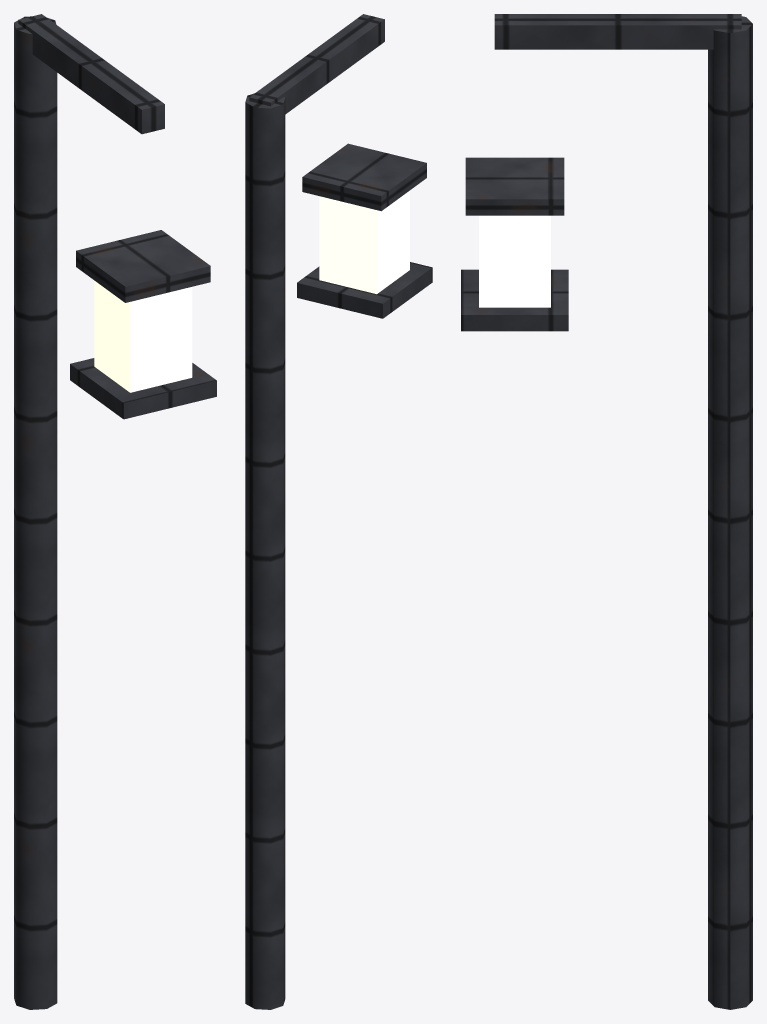
File: lantern_post.glb
3 renders of one model, left to right at view 1: azimuth 30°, elevation 25°; view 2: azimuth 150°, elevation 25°; view 3: azimuth 270°, elevation 25°, orthographic. The views are drawn at different scales.
Parts seen in each view (by area): view 1: lantern_post; view 2: lantern_post; view 3: lantern_post.
Boxes of the visible parts, x1,y1,x2,y2 form: lantern_post: (14, 14, 216, 1009); lantern_post: (245, 14, 432, 1009); lantern_post: (461, 14, 752, 1009).
Size of the model in its own units: 0.24 by 2.41 by 0.65.
Materials: 2 (1 with a texture image).
